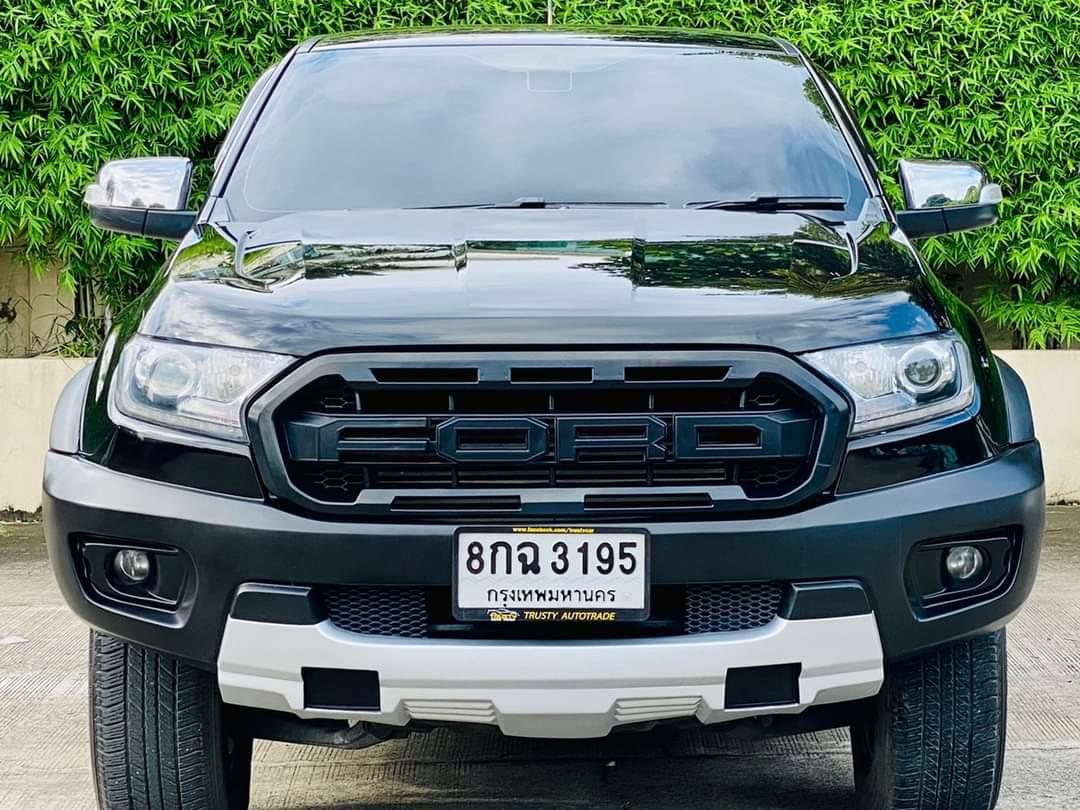license-plate: (452, 526, 652, 623)
